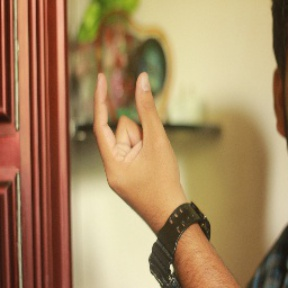U: (84, 64, 181, 197)
